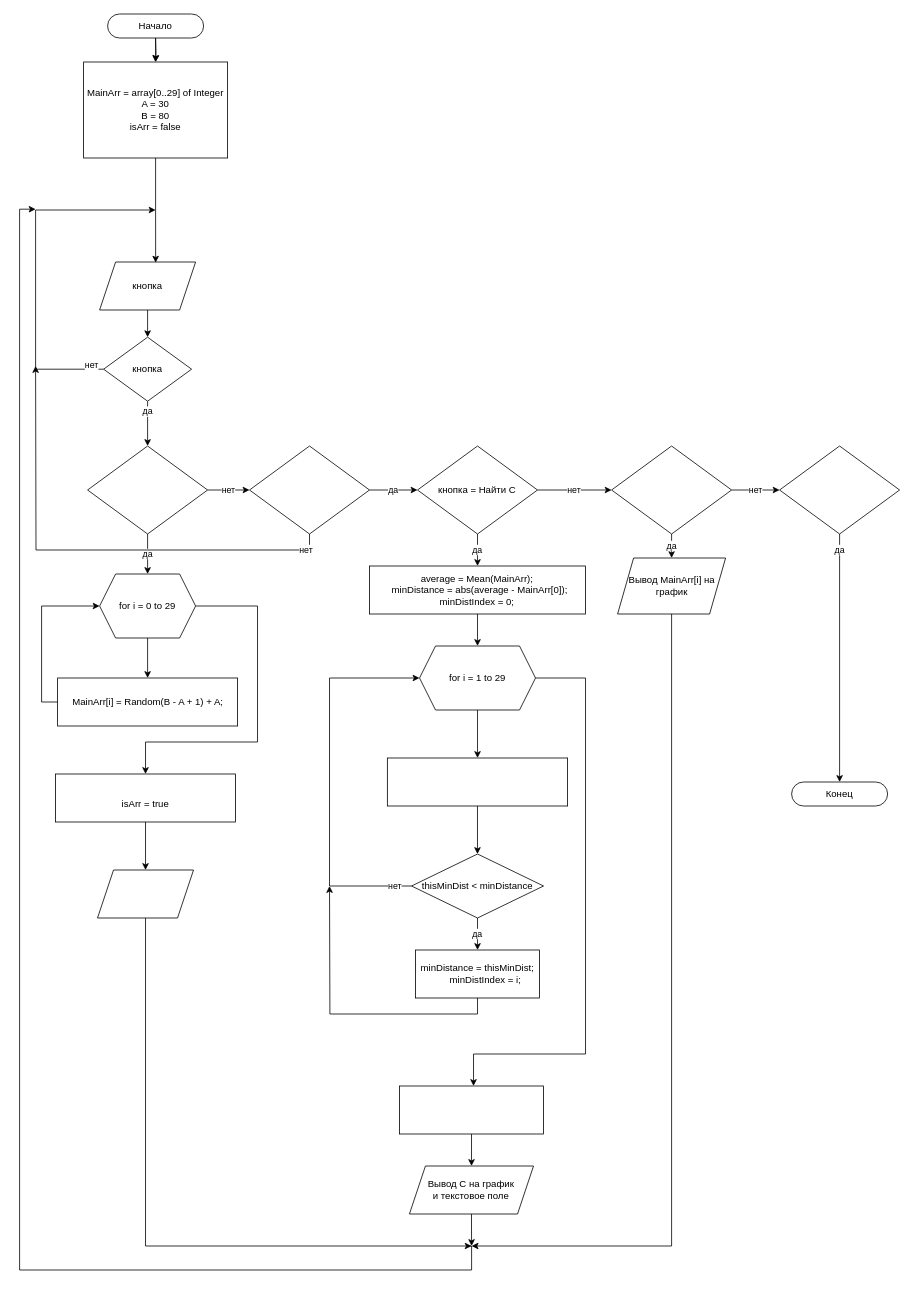
Image size: 914x1290. Some labels were removed from this diagram. The centre of each missing label's shape, as x and y in pixels:
"C = MainArr[minDistIndex]" belongs at point 471,1109.
"isArr" belongs at point 309,489.
"thisMinDist = abs(average - MainArr[i]);" belongs at point 477,781.
"Вывод MainArr[i]" belongs at point 145,893.
"кнопка = Выход" belongs at point 839,489.
"кнопка = График" belongs at point 671,489.
"кнопка = Заполнить массив" belongs at point 147,489.
